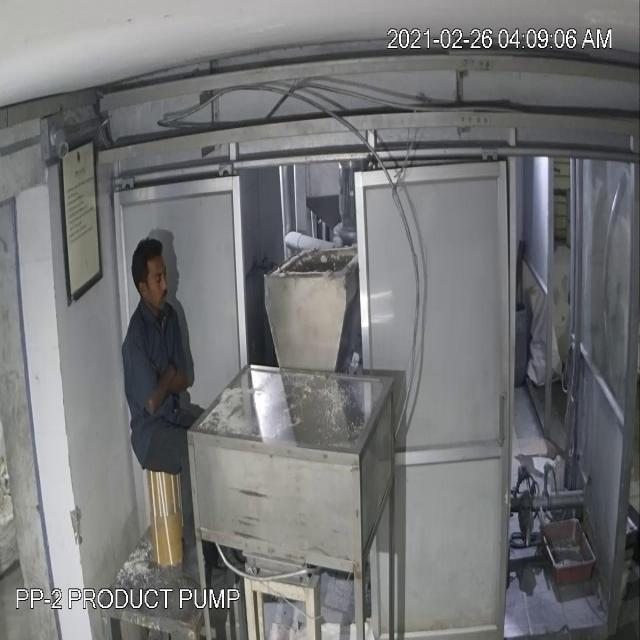no hat: (130, 230, 175, 292)
